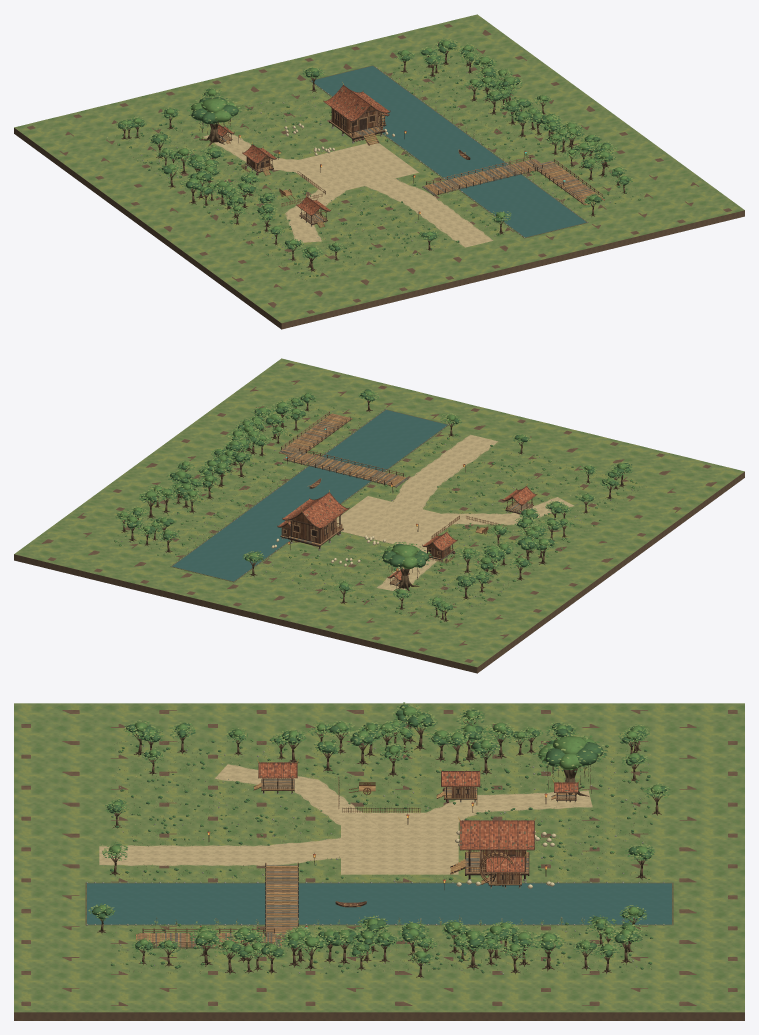
File: moonlit-mill.glb
3 views of the same model, one above another, from view 1: azimuth 30°, elevation 25°; view 2: azimuth 150°, elevation 25°; view 3: azimuth 270°, elevation 25° (orthographic). The views are drawn at different scales.
Visible parts, largest first — view 1: Ground - varied meadow | grass, Water surface | water, Soil foundation | earth, Tracks - worn earth | path, Organic tree foliage | leaf, Fine outer tree leaves | leaf3, Organic tree foliage | leaf2, Fine outer tree leaves | leaf2, Fine outer tree leaves | leaf4, Fine outer tree leaves | leaf, Courtyard paving | path, Feathered road shoulders | path_edge (+13 smaller); view 2: Ground - varied meadow | grass, Water surface | water, Soil foundation | earth, Tracks - worn earth | path, Organic tree foliage | leaf, Fine outer tree leaves | leaf3, Organic tree foliage | leaf2, Fine outer tree leaves | leaf2, Fine outer tree leaves | leaf4, Fine outer tree leaves | leaf, Courtyard paving | path, Roof / overlapping clay tiles | roof (+13 smaller); view 3: Ground - varied meadow | grass, Water surface | water, Soil foundation | earth, Tracks - worn earth | path, Organic tree foliage | leaf, Fine outer tree leaves | leaf3, Organic tree foliage | leaf2, Fine outer tree leaves | leaf4, Fine outer tree leaves | leaf2, Fine outer tree leaves | leaf, Roof / overlapping clay tiles | roof, Courtyard paving | path (+23 smaller).
Part boxes in pixels (bbox=[...]): Ground - varied meadow | grass: bbox=[14, 14, 744, 323]; Water surface | water: bbox=[311, 66, 586, 237]; Soil foundation | earth: bbox=[14, 24, 744, 329]; Tracks - worn earth | path: bbox=[205, 132, 490, 246]; Organic tree foliage | leaf: bbox=[118, 42, 630, 257]; Fine outer tree leaves | leaf3: bbox=[116, 38, 632, 256]; Organic tree foliage | leaf2: bbox=[120, 40, 627, 253]; Fine outer tree leaves | leaf2: bbox=[117, 39, 632, 258]; Fine outer tree leaves | leaf4: bbox=[116, 38, 632, 257]; Fine outer tree leaves | leaf: bbox=[116, 40, 632, 258]; Courtyard paving | path: bbox=[295, 141, 418, 190]; Feathered road shoulders | path_edge: bbox=[203, 132, 493, 247]; Ground - varied meadow | grass: bbox=[14, 358, 744, 667]; Water surface | water: bbox=[172, 410, 447, 581]; Soil foundation | earth: bbox=[14, 363, 744, 673]; Tracks - worn earth | path: bbox=[355, 435, 572, 590]; Organic tree foliage | leaf: bbox=[117, 389, 630, 610]; Fine outer tree leaves | leaf3: bbox=[117, 389, 632, 610]; Organic tree foliage | leaf2: bbox=[120, 391, 627, 607]; Fine outer tree leaves | leaf2: bbox=[116, 389, 632, 612]; Fine outer tree leaves | leaf4: bbox=[115, 391, 632, 611]; Fine outer tree leaves | leaf: bbox=[115, 394, 632, 612]; Courtyard paving | path: bbox=[336, 496, 452, 543]; Roof / overlapping clay tiles | roof: bbox=[278, 487, 535, 579]; Ground - varied meadow | grass: bbox=[14, 703, 744, 1012]; Water surface | water: bbox=[87, 883, 671, 924]; Soil foundation | earth: bbox=[14, 710, 744, 1020]; Tracks - worn earth | path: bbox=[99, 765, 592, 864]; Organic tree foliage | leaf: bbox=[92, 704, 666, 963]; Fine outer tree leaves | leaf3: bbox=[88, 703, 668, 961]; Organic tree foliage | leaf2: bbox=[98, 706, 661, 957]; Fine outer tree leaves | leaf4: bbox=[89, 704, 670, 963]; Fine outer tree leaves | leaf2: bbox=[89, 702, 669, 964]; Fine outer tree leaves | leaf: bbox=[89, 706, 670, 964]; Roof / overlapping clay tiles | roof: bbox=[259, 763, 577, 871]; Courtyard paving | path: bbox=[341, 812, 458, 874].
Size of the model in its own units: 180 by 17.54 by 180.
36 materials, 36 textured.
